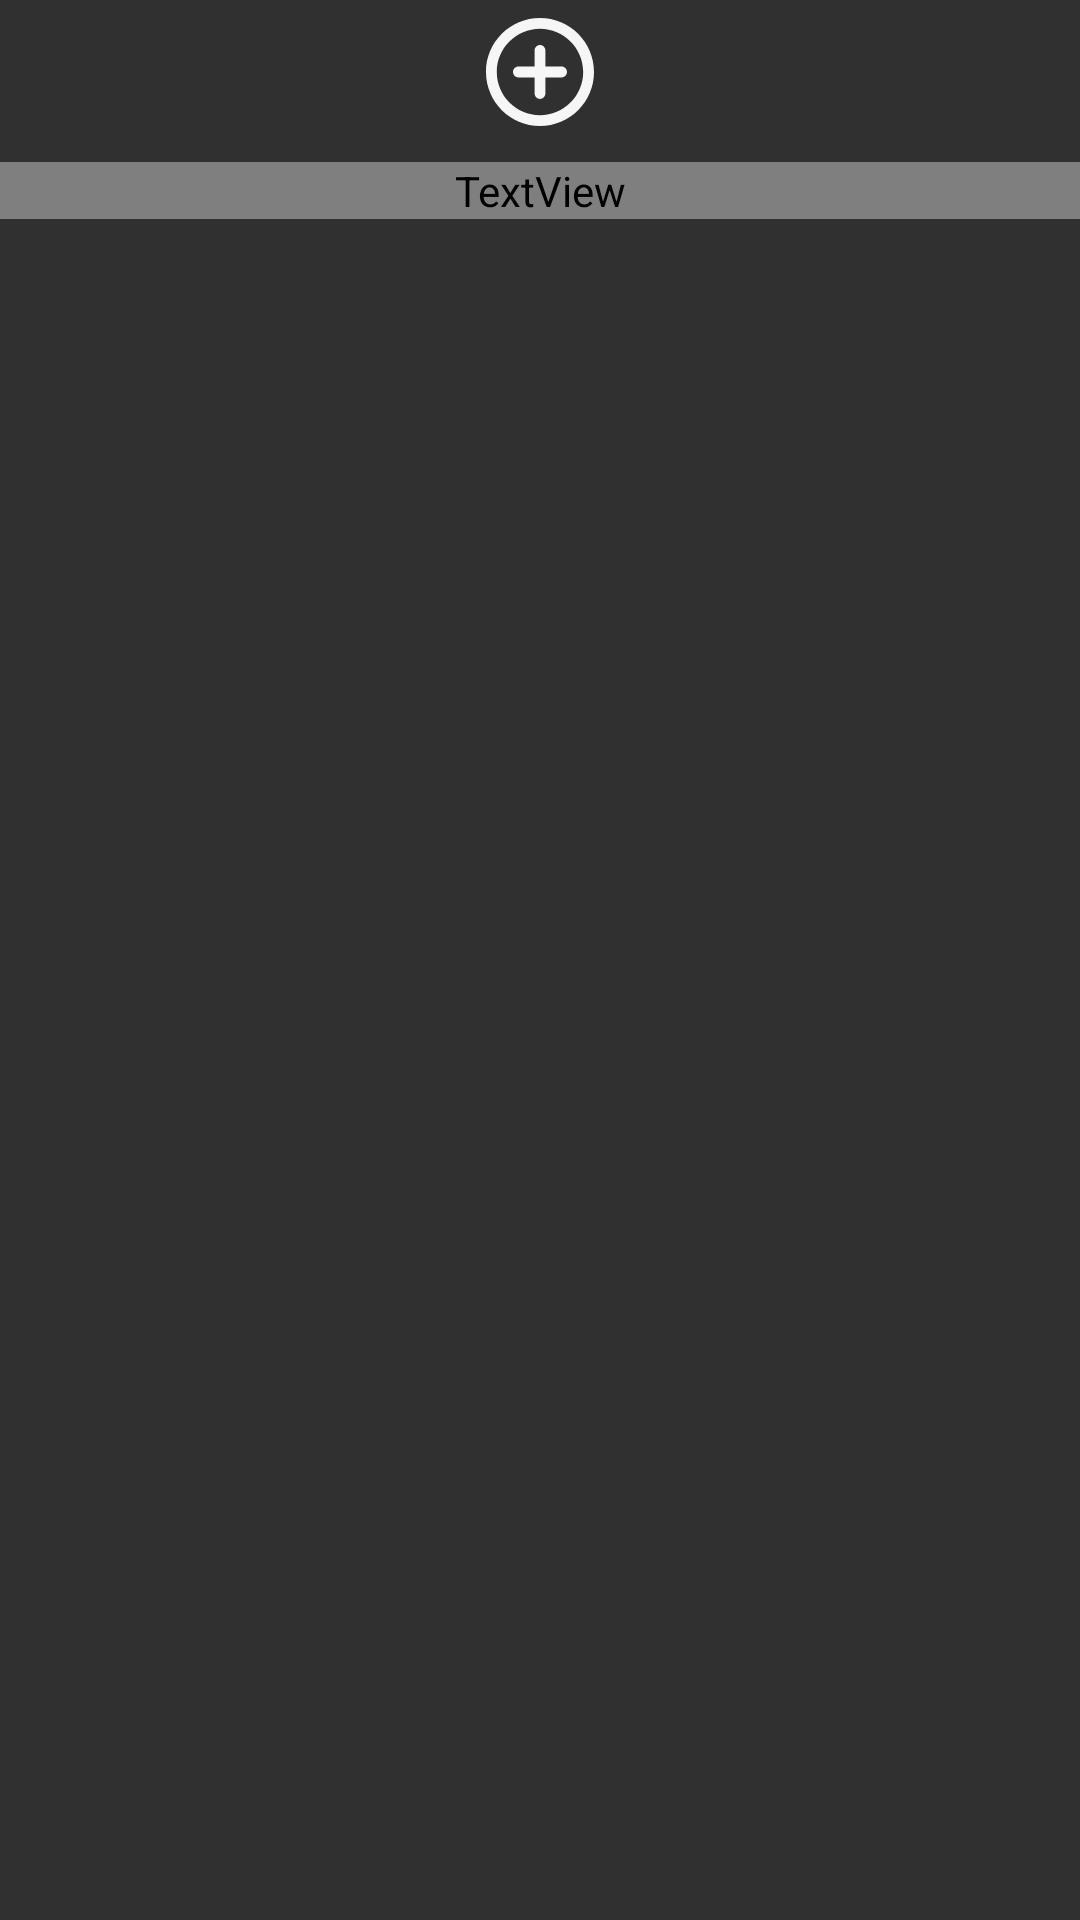

Screen size 1080 × 1920. Icon name, then its center in pixels as (x=x, y=y):
add circle: (x=540, y=72)
